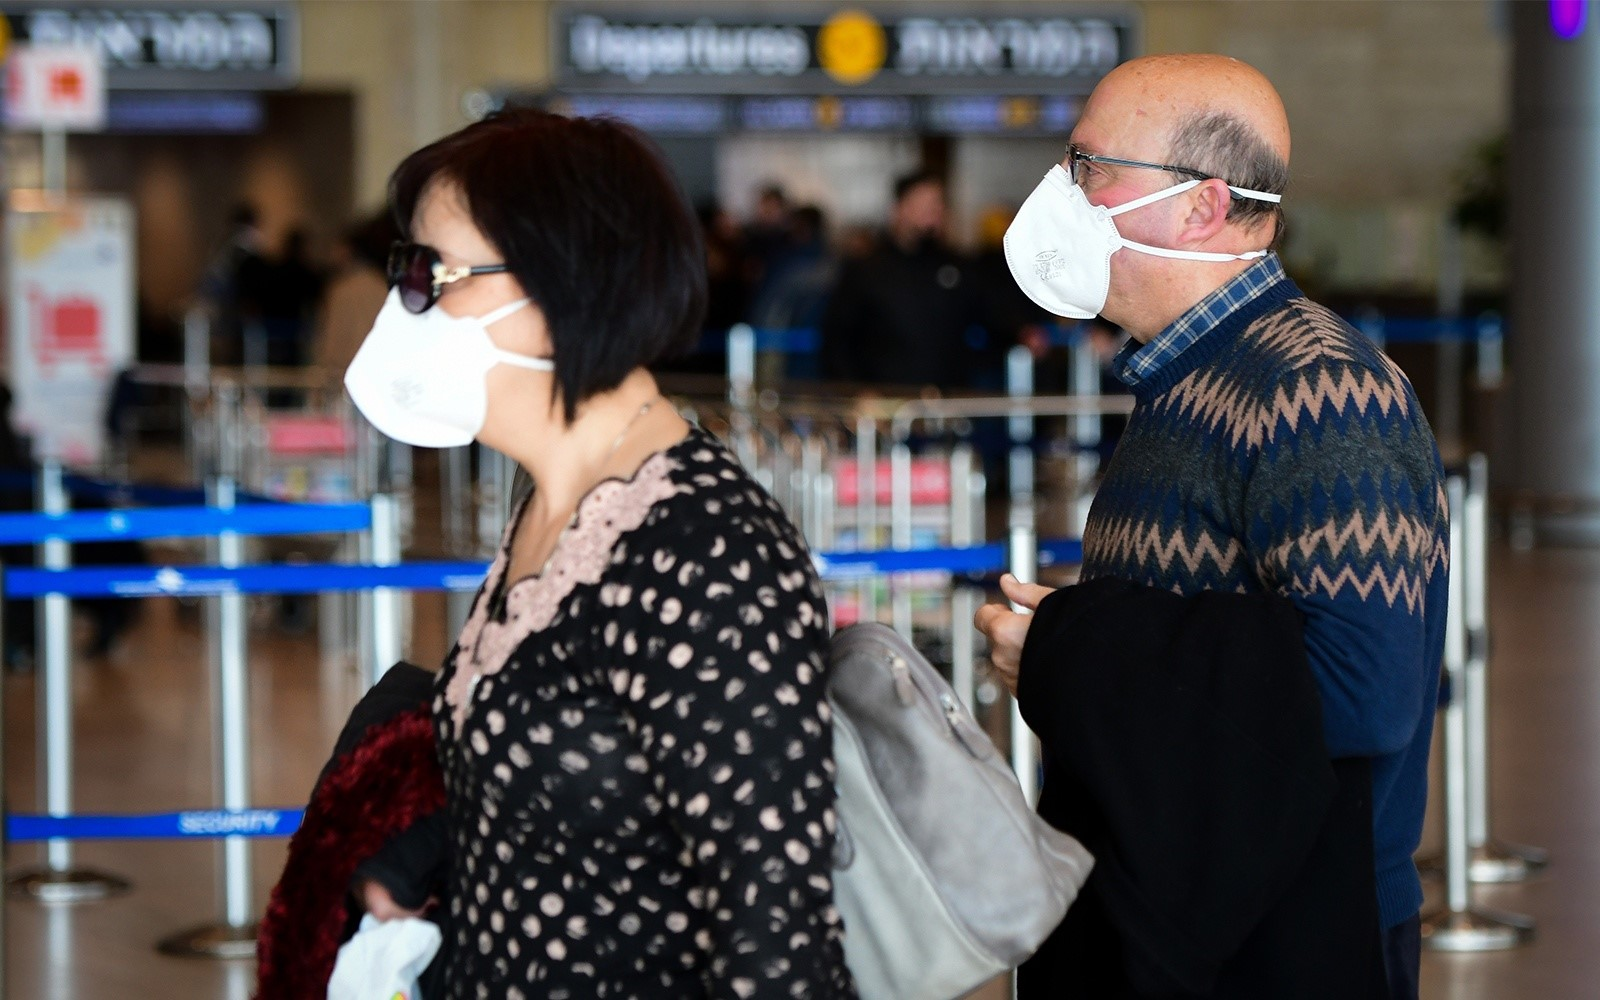face_with_mask: (331, 105, 716, 453), (998, 52, 1300, 327)
